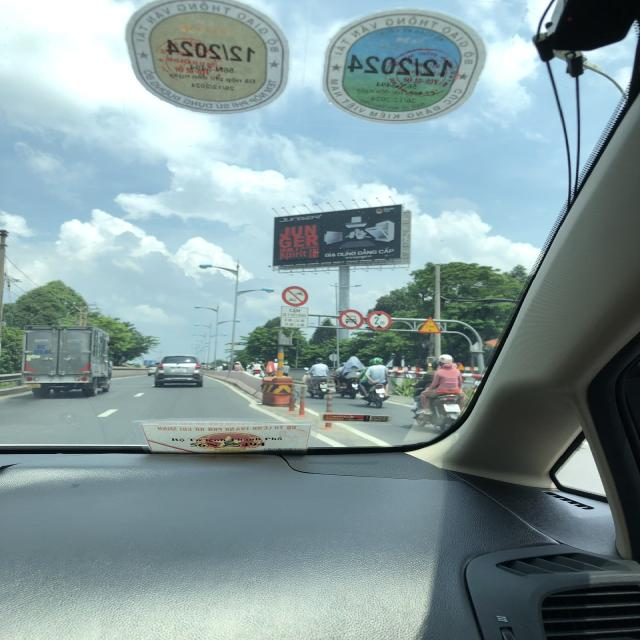Bien bao cam xe oto: (337, 308, 365, 331)
Bien bao han che chieu cao: (364, 307, 394, 331)
